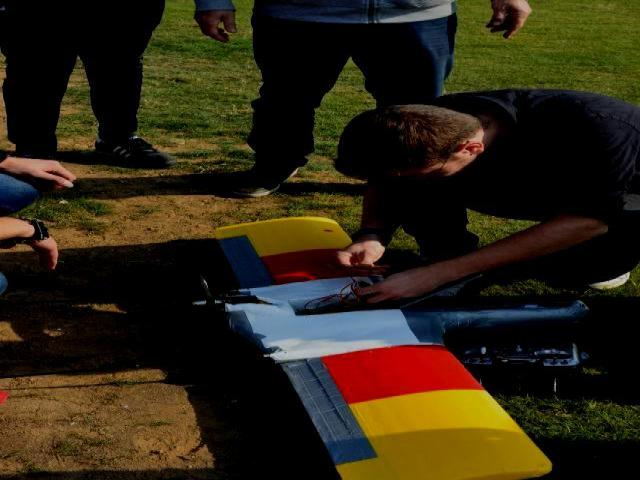iha: (201, 207, 596, 480)
